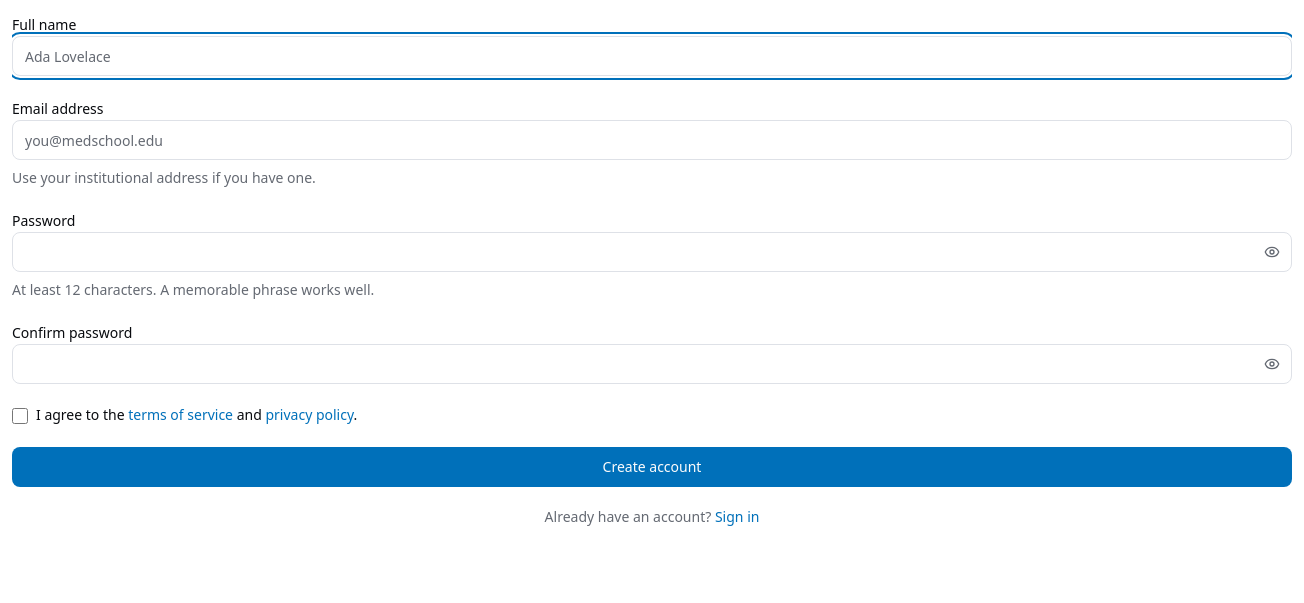
RegisterForm › toggles password visibility without losing the value
In the password field labelled "Password": (652,252) [12,232,1292,272], type "correct-horse-battery"
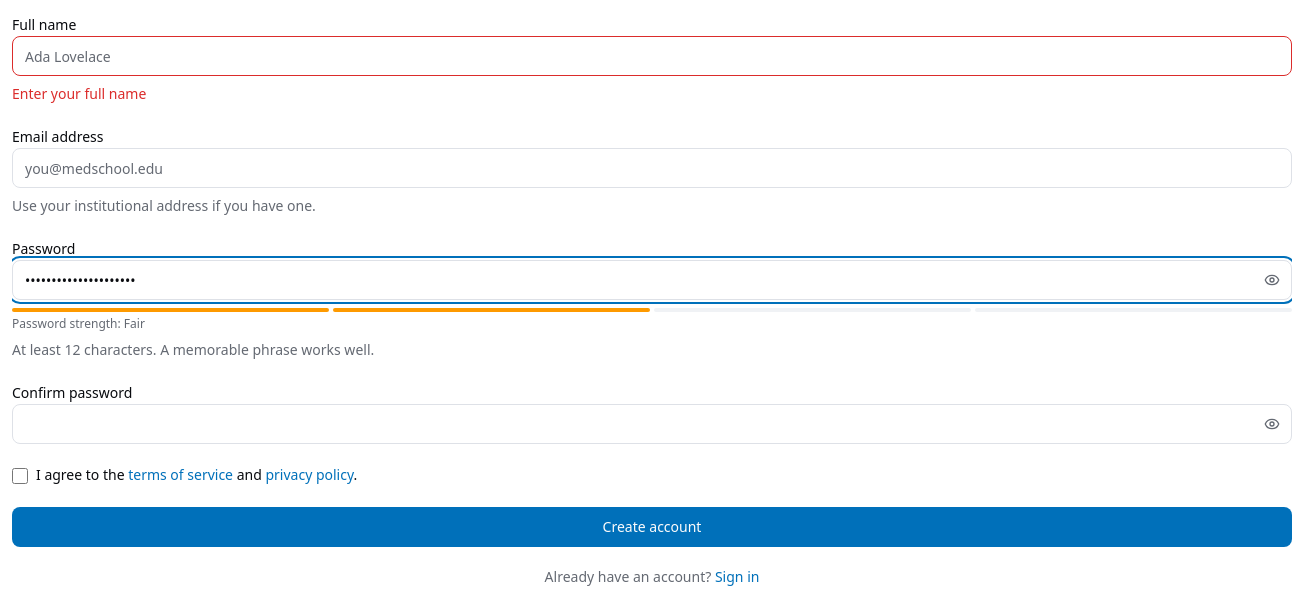
# The toggle names its own field, so the two on this form are distinguishable.
Click the button named "Show password": (1272,280) [1252,260,1292,300]
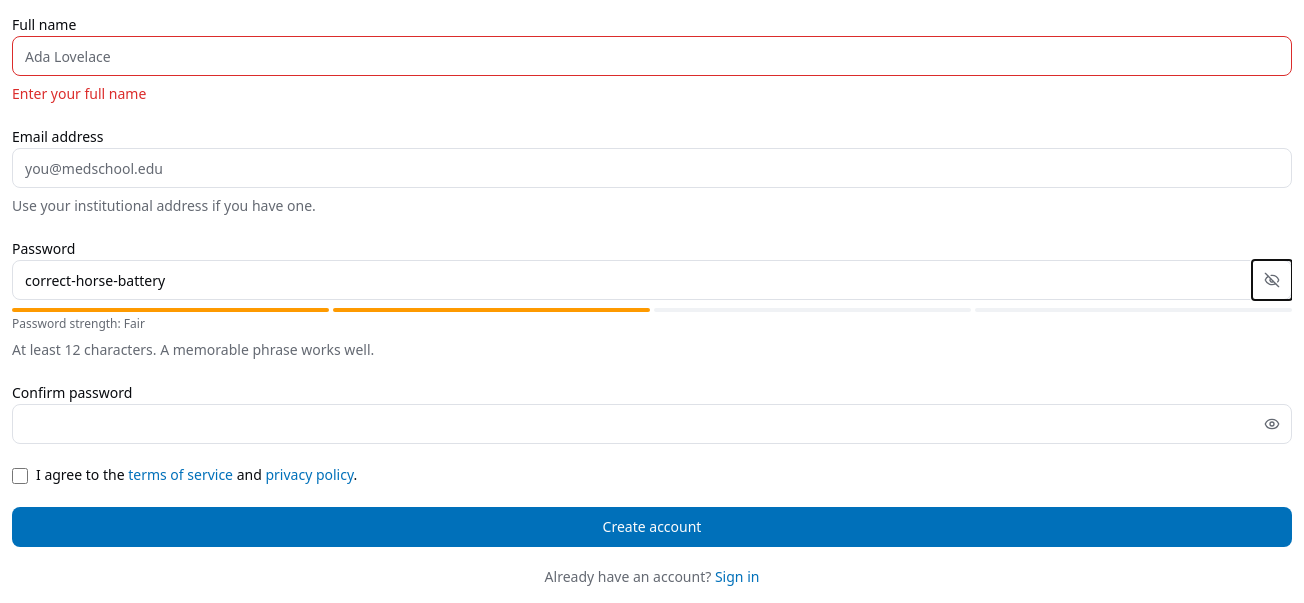
Result: the field labelled "Password" shows its text at [12,260,1292,300]
